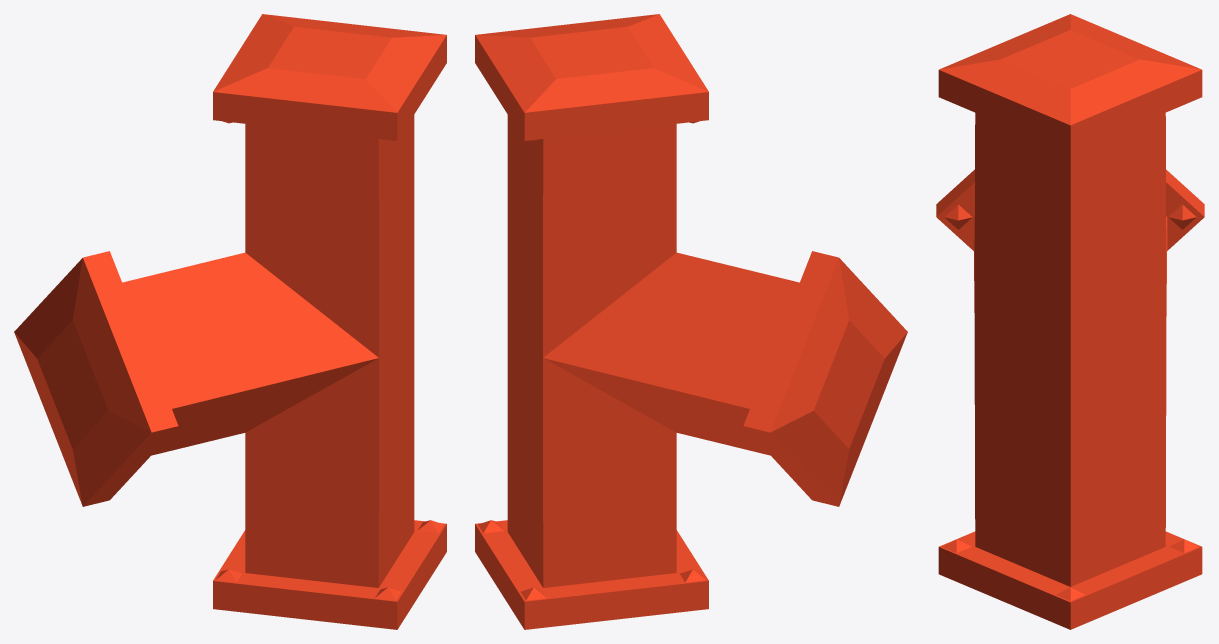
File: SM_Pipe_T_A_City.fbx
The picture shows the model from 3 angles, left to right: view 1: azimuth 30°, elevation 25°; view 2: azimuth 150°, elevation 25°; view 3: azimuth 270°, elevation 25°; orthographic projection. The views are drawn at different scales.
Visible parts, largest first — view 1: SM_Pipe_T_A_City; view 2: SM_Pipe_T_A_City; view 3: SM_Pipe_T_A_City.
Part boxes in pixels (x1=…): SM_Pipe_T_A_City: x1=14, y1=14, x2=446, y2=629; SM_Pipe_T_A_City: x1=475, y1=14, x2=907, y2=629; SM_Pipe_T_A_City: x1=936, y1=14, x2=1204, y2=629.
Bounding box in the file's own units: 0.1484 × 0.204 × 0.0945.
